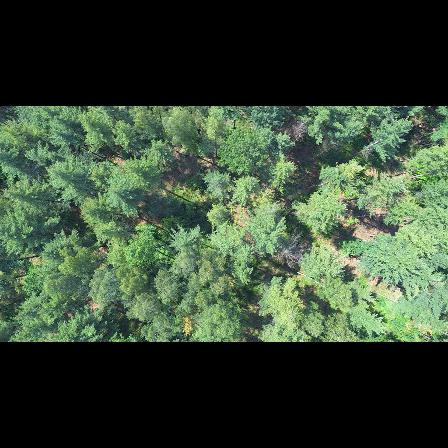Dead: (273, 227, 315, 270)
